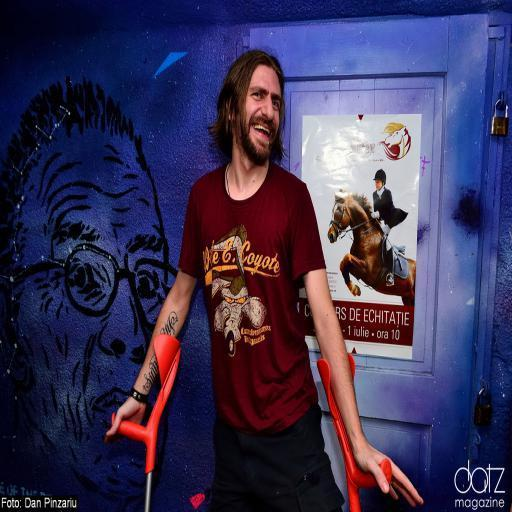horse: (326, 190, 416, 306)
